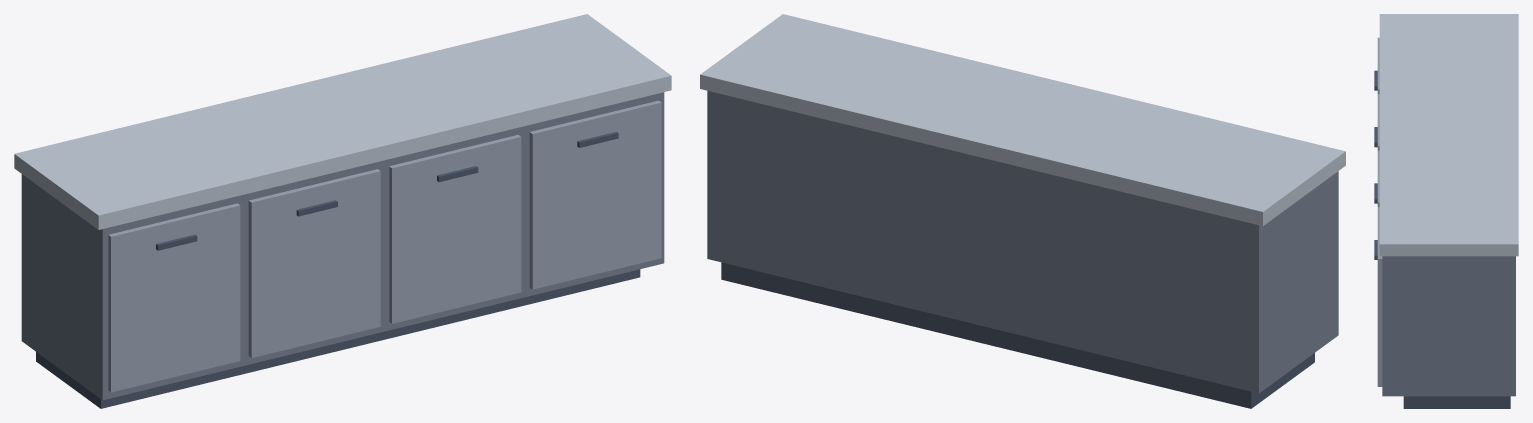
File: kitchenbase.glb
The picture shows the model from 3 angles, left to right: view 1: azimuth 30°, elevation 25°; view 2: azimuth 150°, elevation 25°; view 3: azimuth 270°, elevation 25°; orthographic projection. The views are drawn at different scales.
Parts seen in each view (by area): view 1: kitchenbase; view 2: kitchenbase; view 3: kitchenbase.
Part boxes in pixels (x1=…): kitchenbase: x1=14, y1=14, x2=671, y2=408; kitchenbase: x1=700, y1=14, x2=1345, y2=408; kitchenbase: x1=1374, y1=14, x2=1518, y2=408.
Size of the model in its own units: 2.45 by 0.85 by 0.648.
